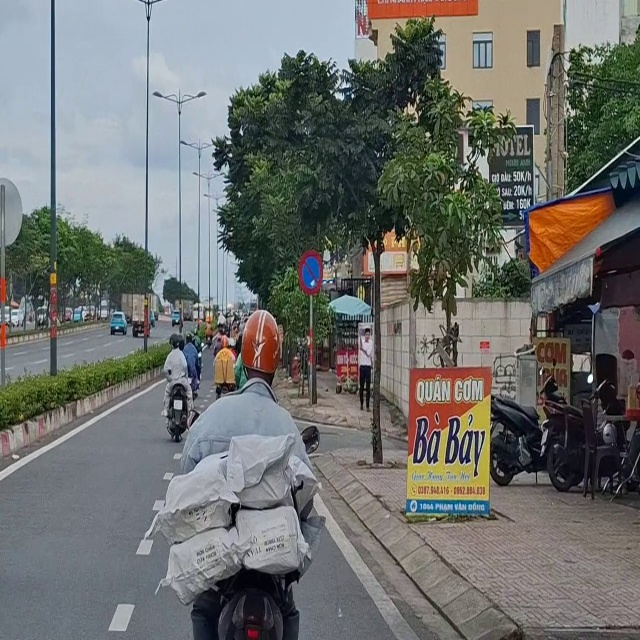cam do xe: (289, 246, 331, 296)
